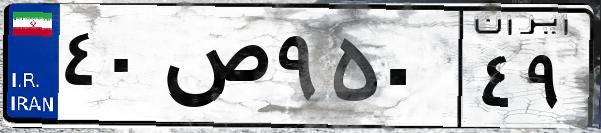0: (385, 28, 445, 110), (110, 28, 158, 98)
4: (57, 26, 110, 100), (475, 38, 525, 113)
5: (330, 28, 385, 110)
9: (270, 28, 330, 110), (525, 38, 570, 115)
ص: (158, 20, 270, 120)
